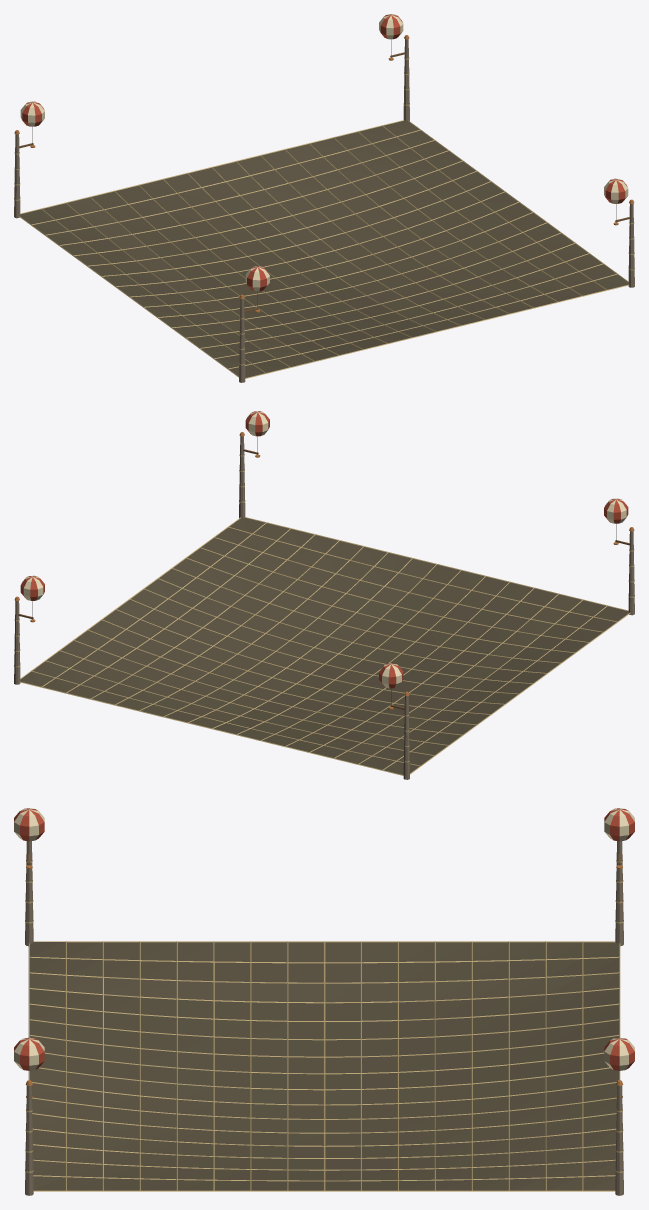
File: net_deck.glb
3 renders of one model, top to bottom at view 1: azimuth 30°, elevation 25°; view 2: azimuth 150°, elevation 25°; view 3: azimuth 270°, elevation 25°, orthographic. The views are drawn at different scales.
Visible parts, largest first — view 1: net_deck; view 2: net_deck; view 3: net_deck.
Boxes of the visible parts, left/top/right/bottom form: net_deck: left=14, top=14, right=634, bottom=382; net_deck: left=14, top=411, right=634, bottom=779; net_deck: left=14, top=808, right=634, bottom=1195.
Size of the model in its own units: 81.2 by 24.82 by 84.16.
